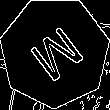M_SE: (22, 18, 88, 86)
